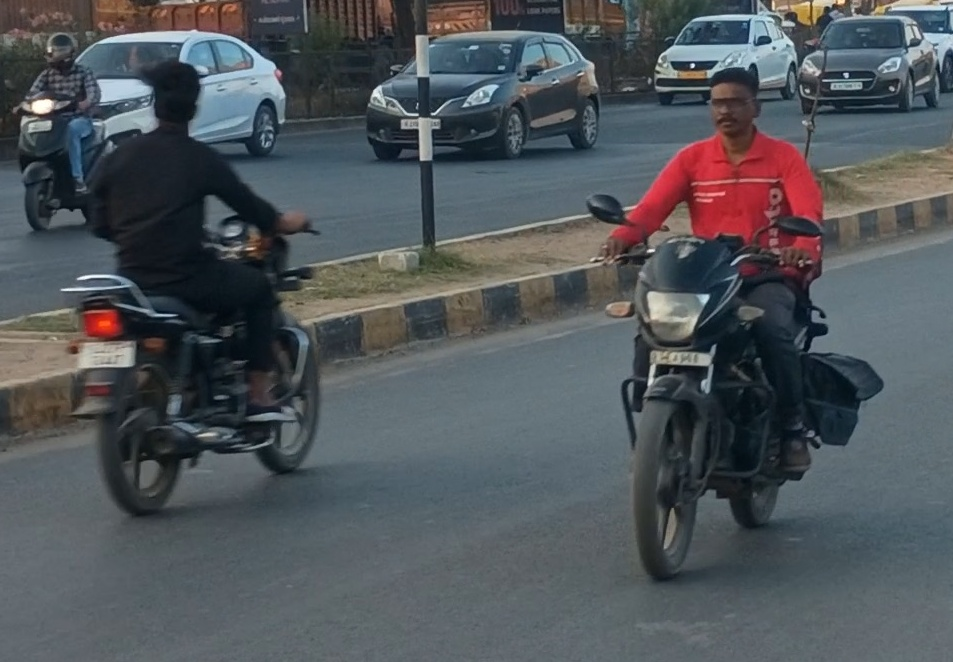BikeWithRider: (547, 64, 897, 583), (51, 60, 330, 529), (2, 23, 126, 240)
Helmet: (36, 25, 84, 79)
NoHelmet: (689, 64, 773, 143), (135, 57, 208, 137)
